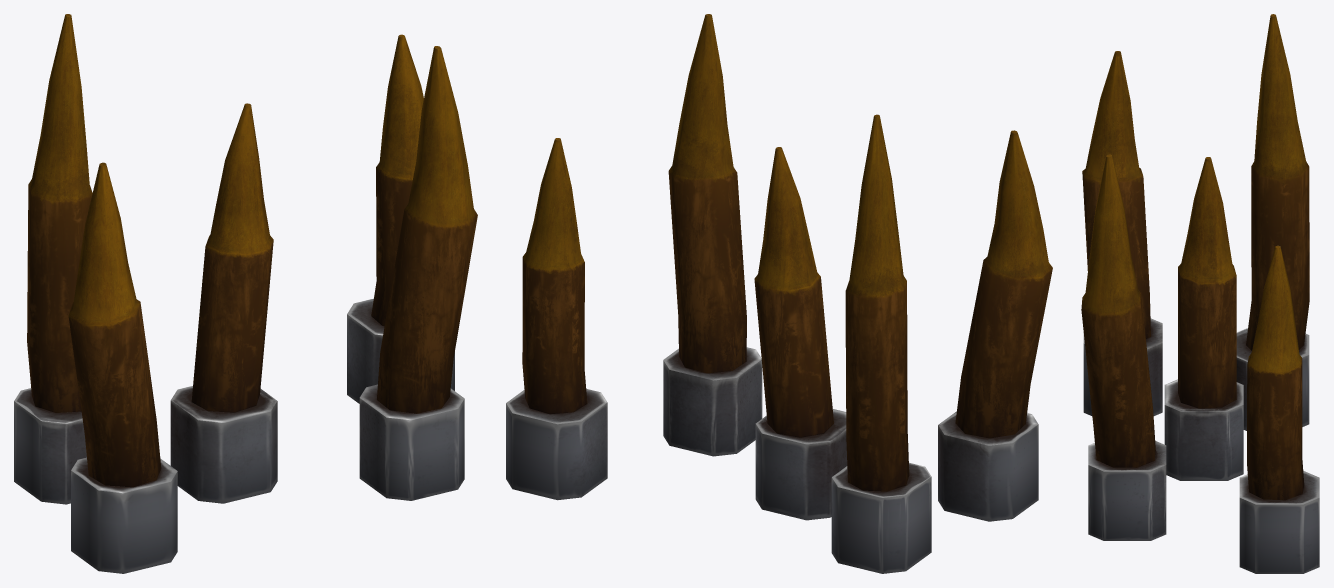
The model's file is Trap1.fbx.
3 views of the same model, side by side, from view 1: azimuth 30°, elevation 25°; view 2: azimuth 150°, elevation 25°; view 3: azimuth 270°, elevation 25° (orthographic). The views are drawn at different scales.
Visible parts, largest first — view 1: Trap1; view 2: Trap1; view 3: Trap1.
Part boxes in pixels (x1,y1,x2,y2): Trap1: (14,14,477,573); Trap1: (506,14,1052,573); Trap1: (1081,14,1319,573).
Size of the model in its own units: 178 by 171 by 92.05.
